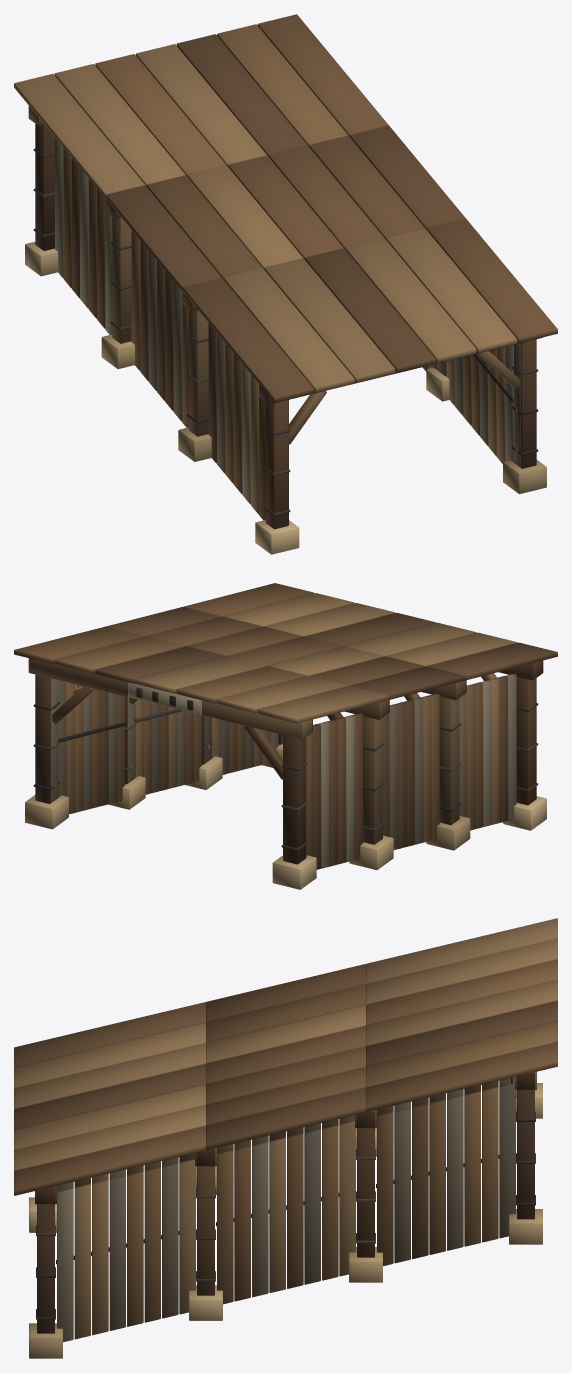
Rendered from islands_ore_adit.glb.
3 renders of one model, top to bottom at view 1: azimuth 30°, elevation 25°; view 2: azimuth 150°, elevation 25°; view 3: azimuth 270°, elevation 25°, orthographic. The views are drawn at different scales.
Parts seen in each view (by area): view 1: islands_ore_adit; view 2: islands_ore_adit; view 3: islands_ore_adit.
Boxes of the visible parts, x1,y1,x2,y2 form: islands_ore_adit: (14,14,557,554); islands_ore_adit: (14,583,557,889); islands_ore_adit: (14,918,557,1358).
Size of the model in its own units: 17.04 by 16.49 by 27.2.
